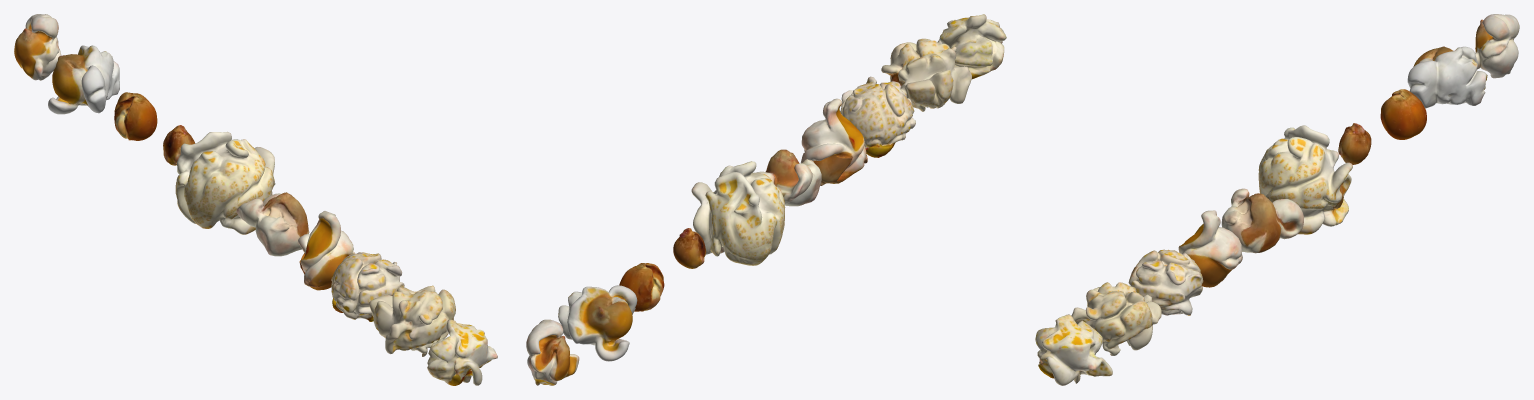
The model's file is Popcorn.optimized.glb.
3 views of the same model, side by side, from view 1: azimuth 30°, elevation 25°; view 2: azimuth 150°, elevation 25°; view 3: azimuth 330°, elevation 25° (orthographic).
Visible parts, largest first — view 1: SM_Popcorn_006, SM_Popcorn_002, SM_Popcorn_009, SM_Popcorn_003, SM_Popcorn_001, SM_Popcorn_005, SM_Popcorn_004, SM_Popcorn_010, SM_Popcorn_008, SM_Popcorn_007; view 2: SM_Popcorn_006, SM_Popcorn_002, SM_Popcorn_009, SM_Popcorn_003, SM_Popcorn_004, SM_Popcorn_001, SM_Popcorn_010, SM_Popcorn_005, SM_Popcorn_008, SM_Popcorn_007; view 3: SM_Popcorn_006, SM_Popcorn_002, SM_Popcorn_009, SM_Popcorn_001, SM_Popcorn_005, SM_Popcorn_003, SM_Popcorn_004, SM_Popcorn_010, SM_Popcorn_008, SM_Popcorn_007.
Boxes of the visible parts, left/top/right/bottom form: SM_Popcorn_006: left=175, top=131, right=275, bottom=234; SM_Popcorn_002: left=369, top=285, right=455, bottom=356; SM_Popcorn_009: left=48, top=45, right=119, bottom=114; SM_Popcorn_003: left=331, top=252, right=404, bottom=321; SM_Popcorn_001: left=427, top=319, right=497, bottom=385; SM_Popcorn_005: left=236, top=192, right=309, bottom=256; SM_Popcorn_004: left=298, top=211, right=355, bottom=290; SM_Popcorn_010: left=14, top=14, right=61, bottom=80; SM_Popcorn_008: left=114, top=92, right=157, bottom=140; SM_Popcorn_007: left=163, top=125, right=195, bottom=165; SM_Popcorn_006: left=691, top=161, right=785, bottom=265; SM_Popcorn_002: left=881, top=38, right=971, bottom=111; SM_Popcorn_009: left=558, top=285, right=637, bottom=361; SM_Popcorn_003: left=840, top=76, right=915, bottom=157; SM_Popcorn_004: left=800, top=98, right=867, bottom=185; SM_Popcorn_001: left=937, top=14, right=1006, bottom=79; SM_Popcorn_010: left=526, top=319, right=579, bottom=385; SM_Popcorn_005: left=756, top=149, right=821, bottom=206; SM_Popcorn_008: left=619, top=263, right=664, bottom=311; SM_Popcorn_007: left=673, top=228, right=706, bottom=268; SM_Popcorn_006: left=1258, top=125, right=1352, bottom=234; SM_Popcorn_002: left=1071, top=282, right=1161, bottom=355; SM_Popcorn_009: left=1407, top=46, right=1487, bottom=108; SM_Popcorn_001: left=1035, top=314, right=1112, bottom=385; SM_Popcorn_005: left=1221, top=188, right=1303, bottom=253; SM_Popcorn_003: left=1128, top=249, right=1203, bottom=315; SM_Popcorn_004: left=1178, top=210, right=1242, bottom=287; SM_Popcorn_010: left=1475, top=14, right=1519, bottom=78; SM_Popcorn_008: left=1380, top=89, right=1426, bottom=139; SM_Popcorn_007: left=1338, top=123, right=1371, bottom=164.
Size of the model in its own units: 2.14 by 2.08 by 19.29.
1 material, 1 textured.
